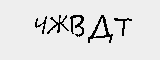В: (69, 12, 86, 39)
Д: (86, 14, 114, 46)
Ж: (47, 13, 69, 37)
Т: (112, 15, 133, 39)
Ч: (32, 15, 49, 36)
